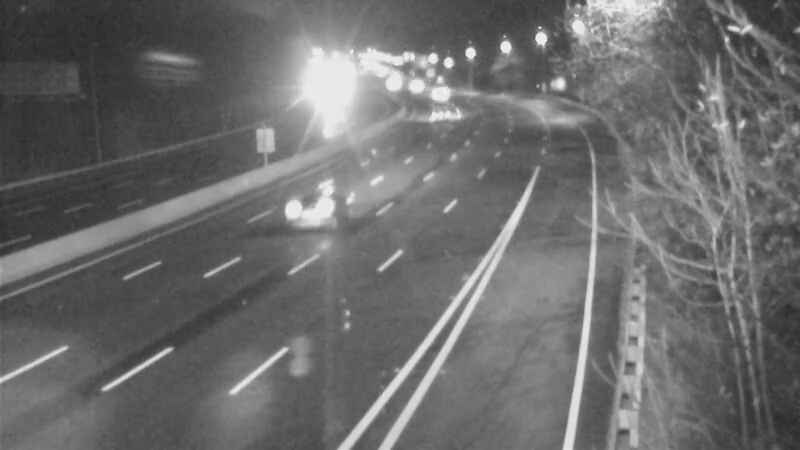vehicle: (281, 164, 361, 244), (386, 62, 436, 112), (411, 69, 461, 119), (414, 90, 464, 140), (299, 72, 349, 122)
